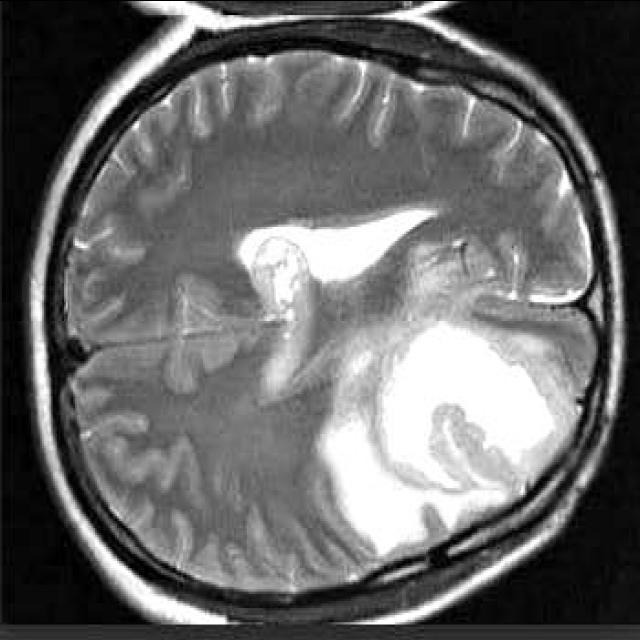tumor: (327, 318, 569, 555)
